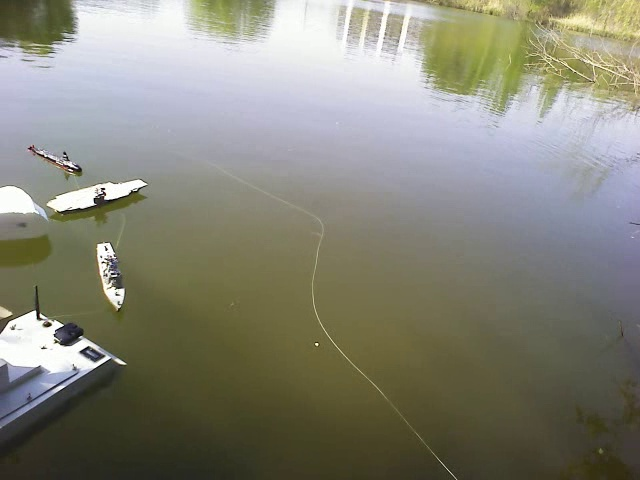aircraft_carrier: (48, 178, 149, 217)
boat: (3, 303, 129, 450)
iceberg: (4, 181, 53, 250)
submarine: (30, 142, 84, 180)
warship: (92, 237, 131, 314)
